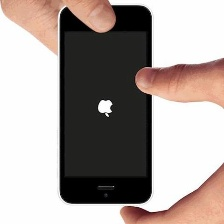phone: (51, 2, 159, 209)
